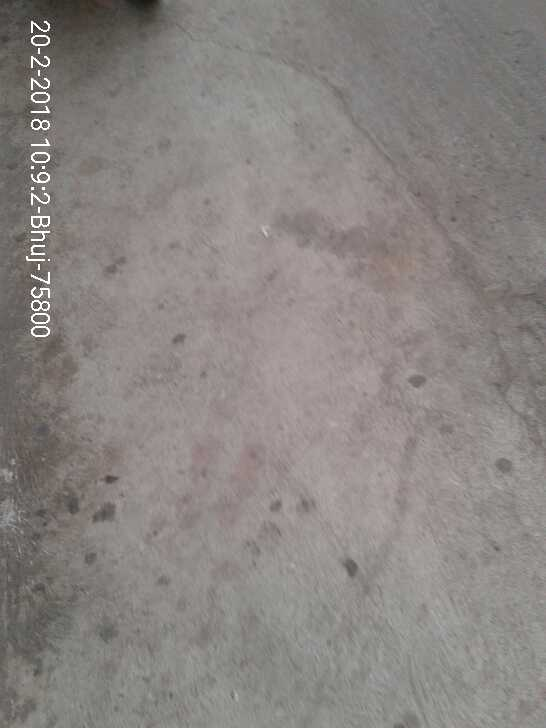reject: (268, 253, 406, 406)
